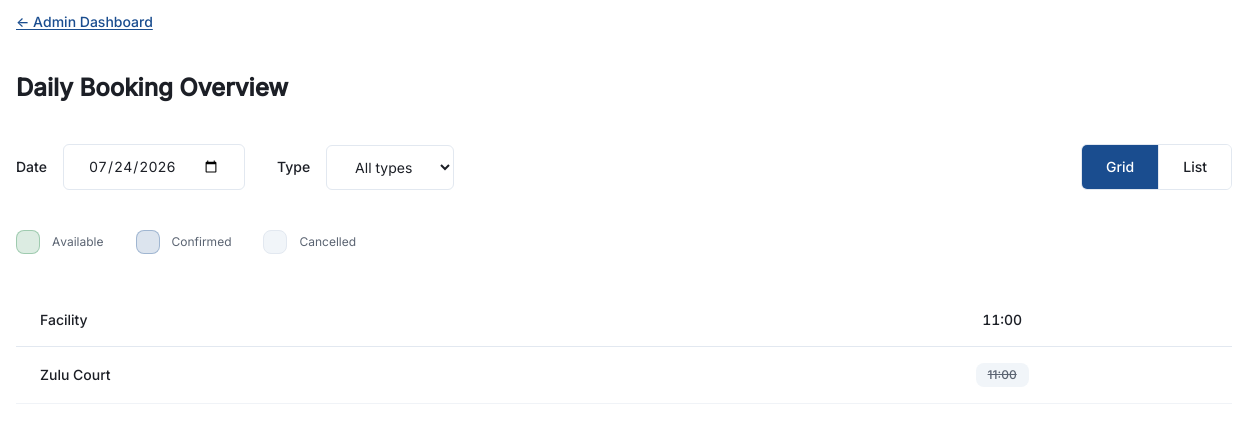
Test case: TenantDailyOverview › (b) cancelled booking appears in List view — not hidden
What coordinates should you click on to do the following:
click the button "List"
I would click on:
 (1195, 167)
Its box is [1158,145,1231,189].
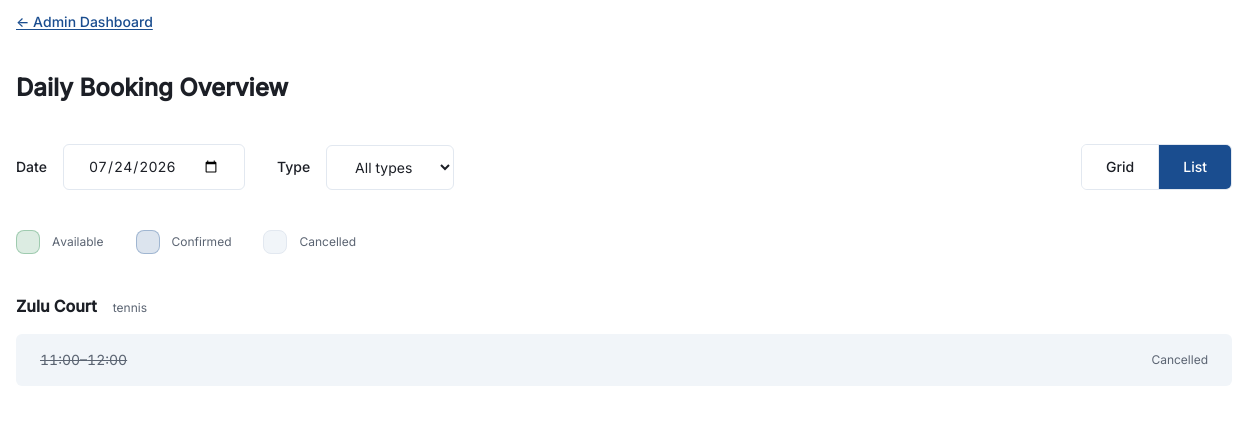
expect the text "11:00–12:00" is shown: met, box [40,350,127,370]
